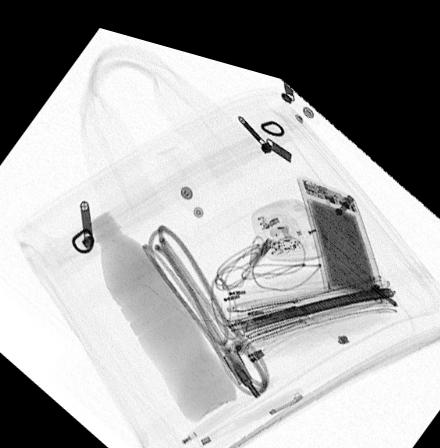Powerbank: (296, 156, 385, 278)
